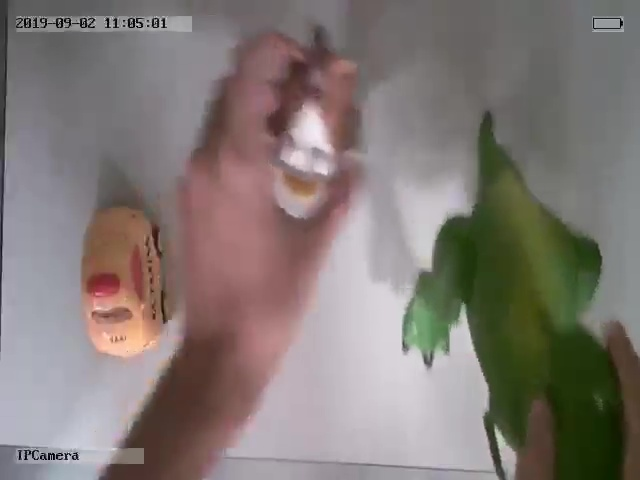car: (80, 203, 172, 358)
